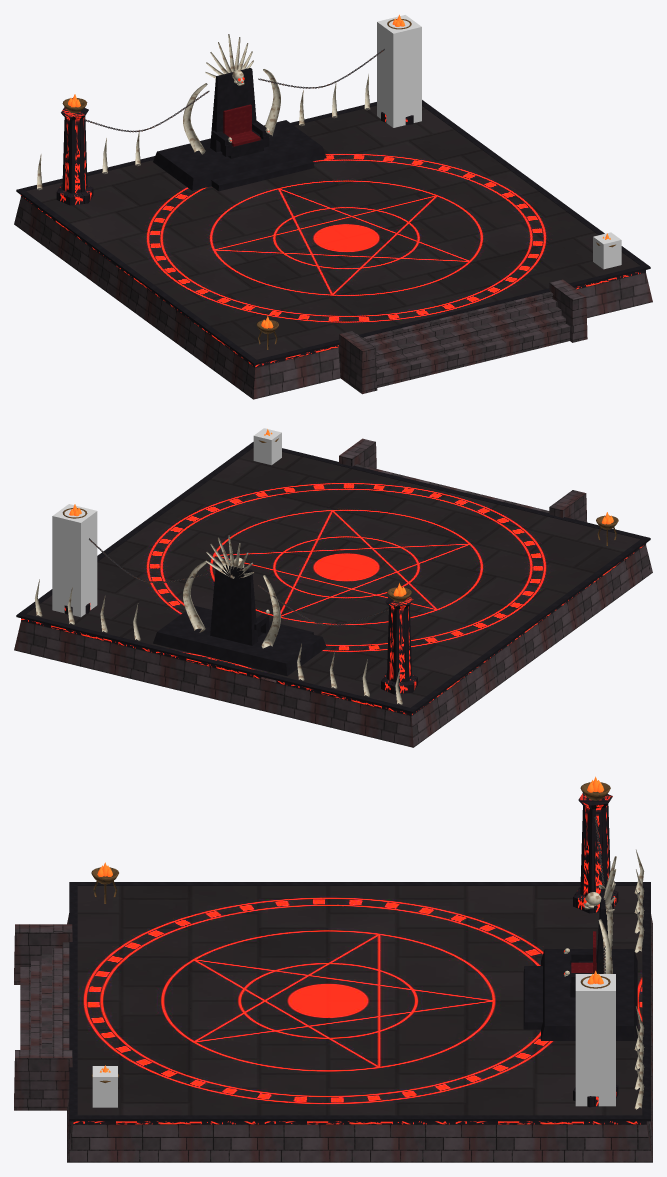
Rendered from patriarch_throne.glb.
The picture shows the model from 3 angles, top to bottom: view 1: azimuth 30°, elevation 25°; view 2: azimuth 150°, elevation 25°; view 3: azimuth 270°, elevation 25°; orthographic projection. The views are drawn at different scales.
Visible parts, largest first — view 1: ThroneFloor, ThroneStairs, ThroneBase, ThroneDais, ThroneLip, ThronePillarCol-convcolonly.001, ThroneSeat, ThronePillars, ThroneBones, ThroneCushion, ThroneRuneBand, ThroneBrazierCol-convcolonly.001 (+3 smaller); view 2: ThroneFloor, ThroneBase, ThroneLip, ThroneDais, ThronePillarCol-convcolonly.001, ThroneSeat, ThronePillars, ThroneStairs, ThroneBones, ThroneRuneBand, ThroneSpikes, ThroneBrazierCol-convcolonly.001 (+2 smaller); view 3: ThroneFloor, ThroneBase, ThroneStairs, ThroneLip, ThroneDais, ThronePillarCol-convcolonly.001, ThronePillars, ThroneRuneBand, ThroneBones, ThroneSpikes, ThroneBrazierCol-convcolonly.001, ThroneSeat (+1 smaller).
Part boxes in pixels (x1,y1,x2,y2): ThroneFloor: [26, 105, 640, 359]; ThroneStairs: [338, 279, 587, 394]; ThroneBase: [14, 196, 652, 399]; ThroneDais: [153, 120, 326, 191]; ThroneLip: [16, 100, 650, 365]; ThronePillarCol-convcolonly.001: [377, 15, 421, 127]; ThroneSeat: [210, 68, 269, 158]; ThronePillars: [56, 107, 413, 205]; ThroneBones: [183, 34, 280, 154]; ThroneCushion: [223, 104, 260, 146]; ThroneRuneBand: [20, 195, 645, 367]; ThroneBrazierCol-convcolonly.001: [593, 232, 621, 269]; ThroneFloor: [26, 448, 640, 707]; ThroneBase: [14, 545, 652, 747]; ThroneLip: [16, 442, 650, 713]; ThroneDais: [153, 605, 326, 676]; ThronePillarCol-convcolonly.001: [52, 504, 97, 617]; ThroneSeat: [210, 562, 269, 645]; ThronePillars: [64, 596, 417, 694]; ThroneStairs: [339, 438, 587, 522]; ThroneBones: [183, 535, 280, 648]; ThroneRuneBand: [21, 543, 646, 715]; ThroneSpikes: [35, 579, 402, 704]; ThroneBrazierCol-convcolonly.001: [253, 428, 281, 465]; ThroneFloor: [77, 886, 642, 1115]; ThroneBase: [67, 913, 652, 1162]; ThroneStairs: [14, 924, 72, 1110]; ThroneLip: [69, 882, 650, 1121]; ThroneDais: [523, 949, 637, 1040]; ThronePillarCol-convcolonly.001: [575, 974, 615, 1106]; ThronePillars: [573, 793, 618, 1107]; ThroneRuneBand: [73, 1121, 646, 1124]; ThroneBones: [564, 856, 616, 976]; ThroneSpikes: [634, 849, 644, 1109]; ThroneBrazierCol-convcolonly.001: [92, 1066, 117, 1107]; ThroneSeat: [570, 888, 607, 997].
Size of what is drawn, in the model's own units: 26.6 by 9.71 by 30.1.
10 materials, 8 textured.
